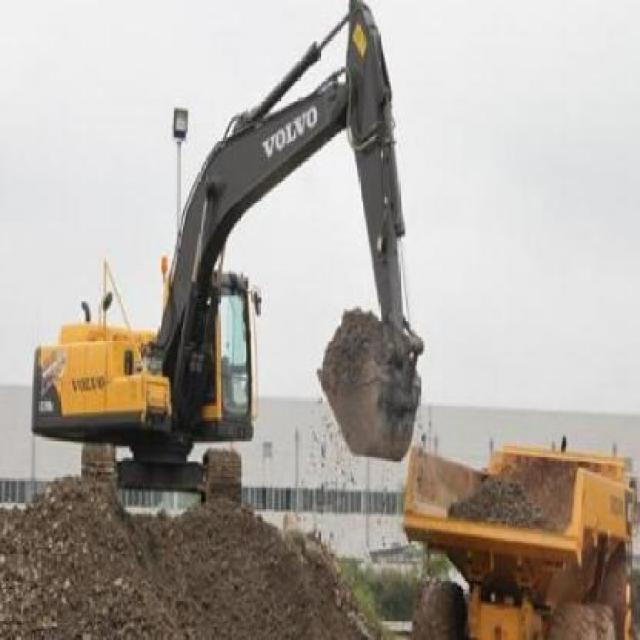Dump Truck: (402, 439, 638, 633)
Excavator: (18, 0, 424, 498)
